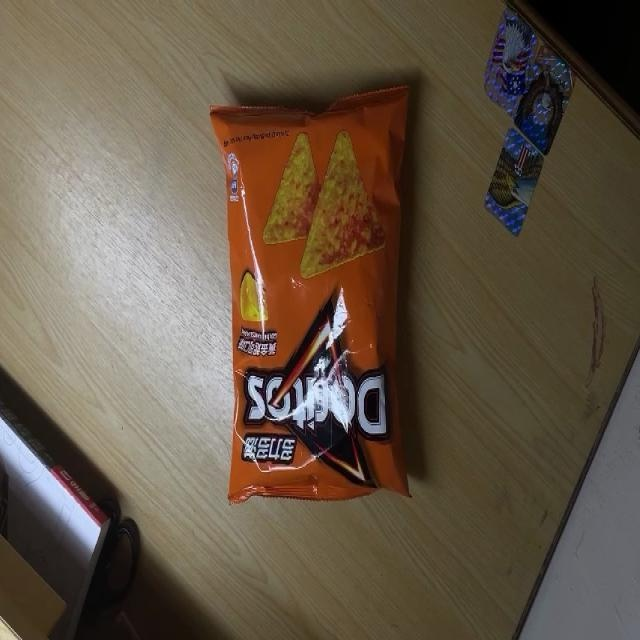Doritos: (208, 92, 416, 508)
